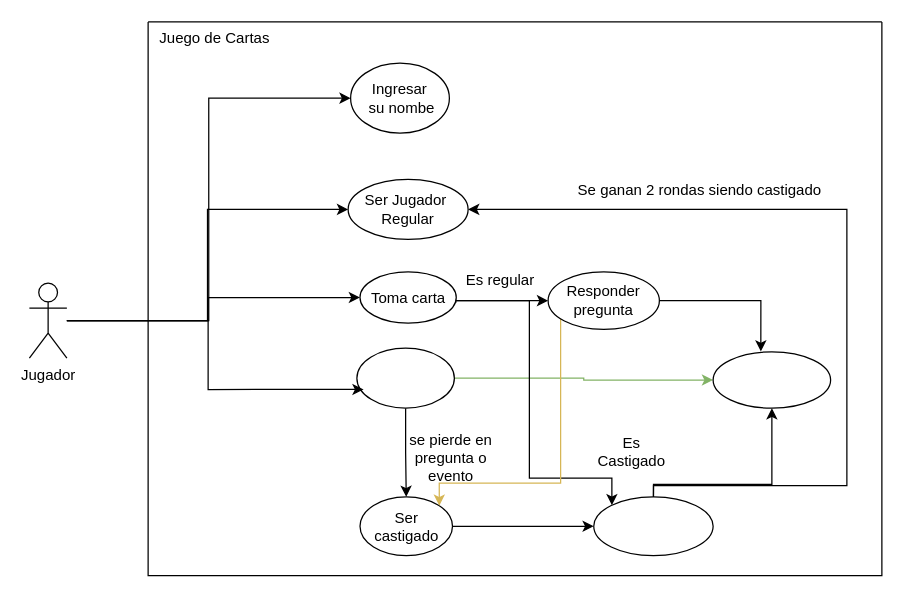
The diagram is 904 pixels wide and 598 high, and some of its shapes have lost their labels. The shapes that lost their labels are listed below. From the top down, each one's centre as x and y in pixels, then its label:
At [405,377]: "Jugar Eventos".
At [771,379]: "Ganar Puntos".
At [652,526]: "Jugar retos y responde pregunta".
